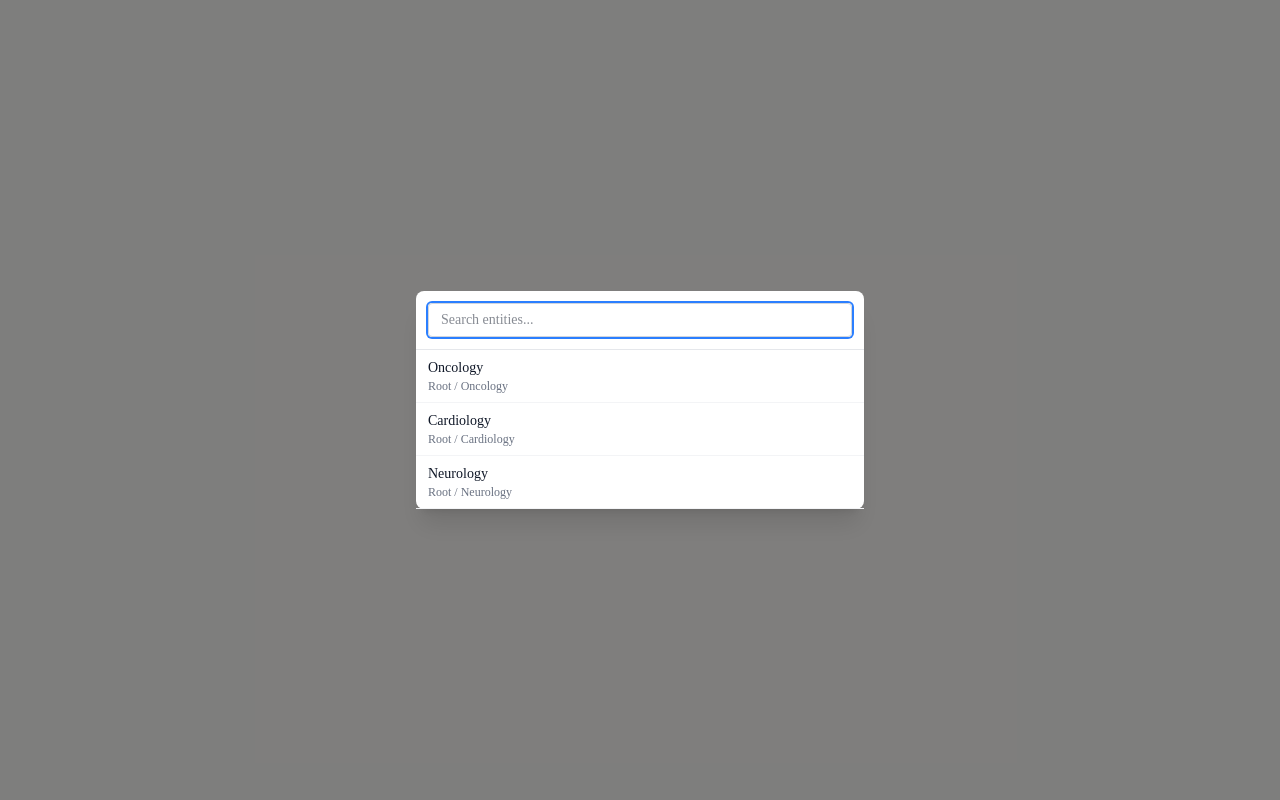
Test: EntityPickerModal › filters entities by search input
Type "onc" into the field with placeholder "Search entities..." at x=640, y=320, box [428,303,852,337]
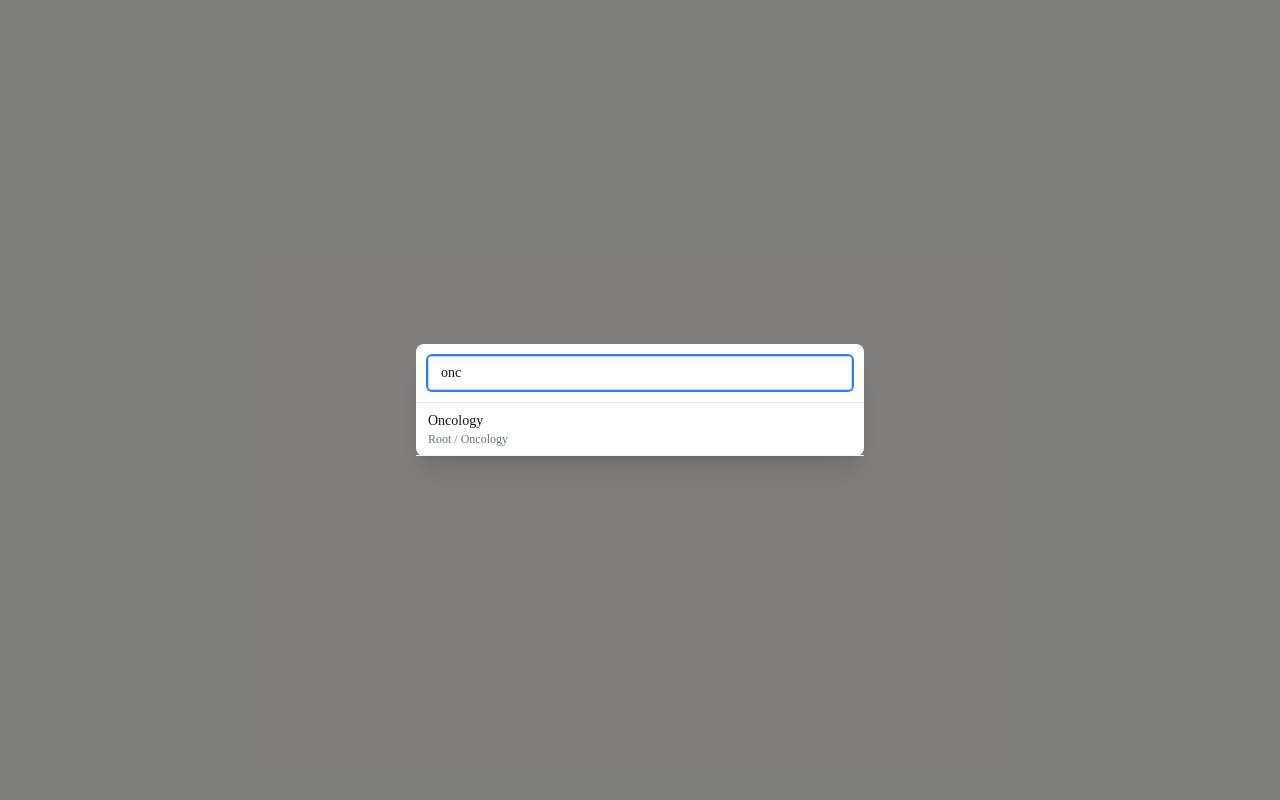
Expected: the text "Oncology" is shown, [428,413,483,428]
Expected: the text "Cardiology" is gone
